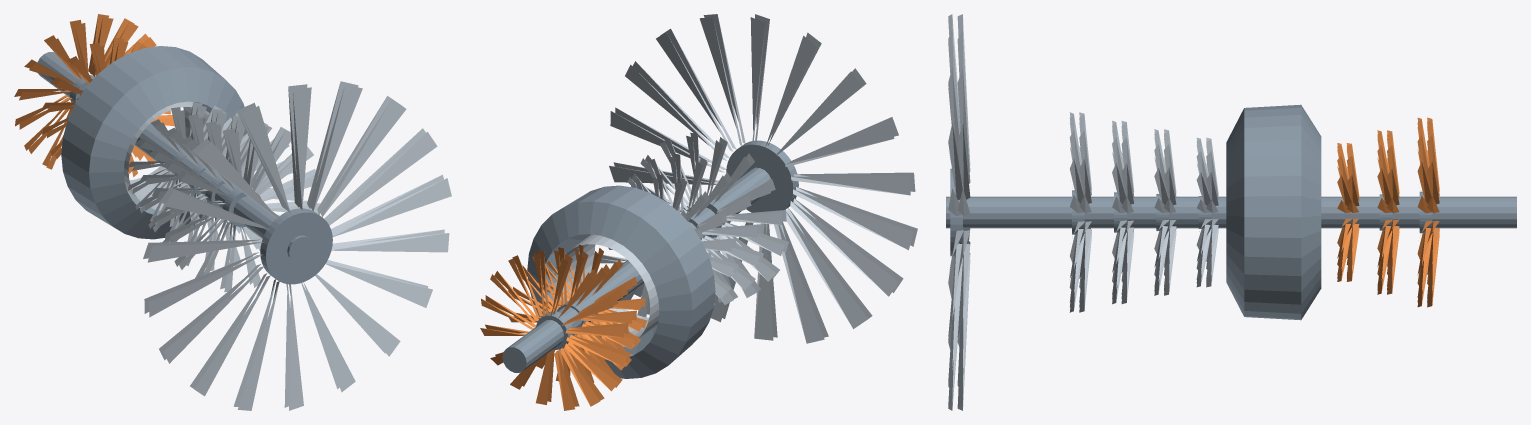
Rendered from turbine.glb.
3 views of the same model, side by side, from view 1: azimuth 30°, elevation 25°; view 2: azimuth 150°, elevation 25°; view 3: azimuth 270°, elevation 25° (orthographic). The views are drawn at different scales.
Bounding box in the file's own units: 3.74 × 3.76 × 5.4.
